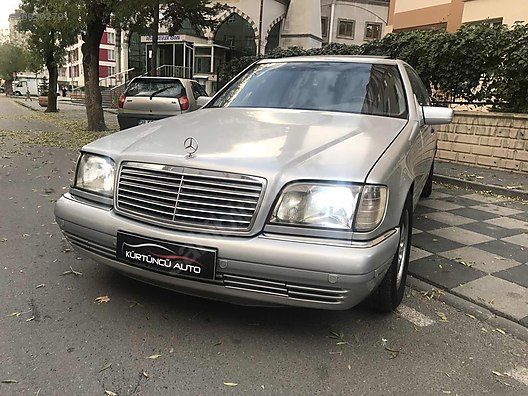m: (52, 51, 451, 322)
